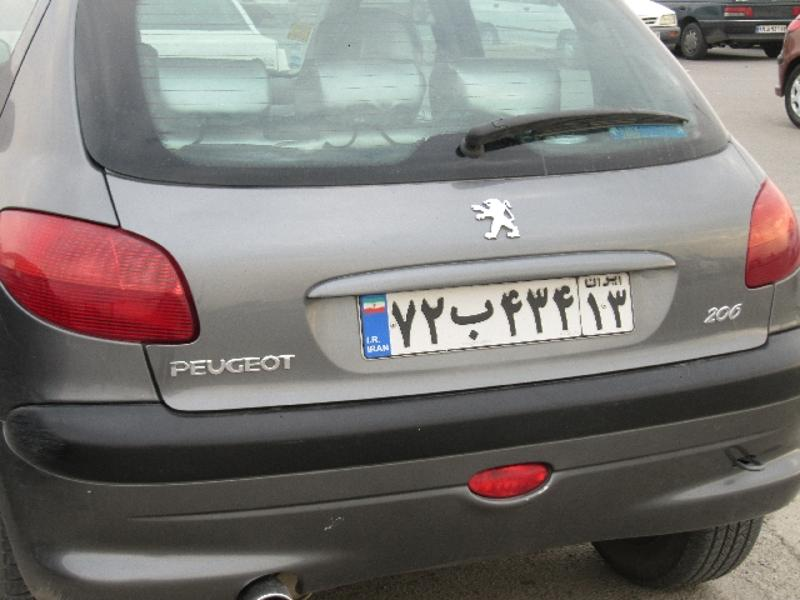Plate: (360, 260, 644, 357)
